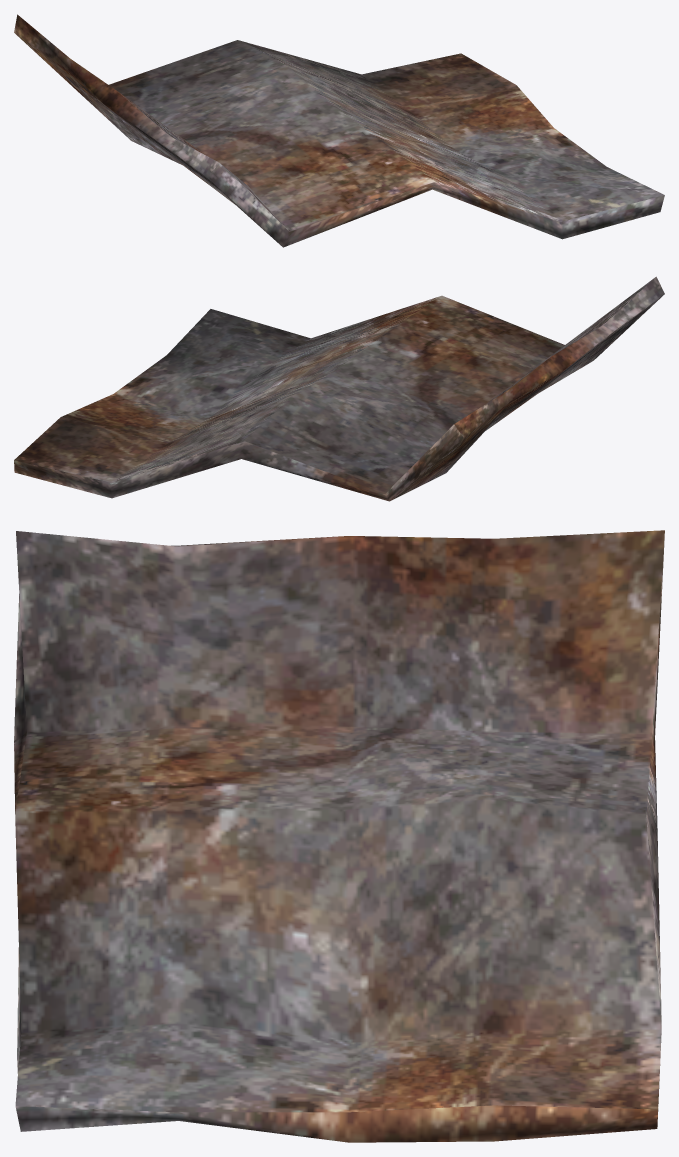
File: sheet_metal02.dae
3 renders of one model, top to bottom at view 1: azimuth 30°, elevation 25°; view 2: azimuth 150°, elevation 25°; view 3: azimuth 270°, elevation 25°, orthographic. The views are drawn at different scales.
Parts seen in each view (by area): view 1: pCube1; view 2: pCube1; view 3: pCube1.
Part boxes in pixels (box(x1,y1,x2,y2)): pCube1: box(14, 14, 664, 247); pCube1: box(14, 276, 664, 501); pCube1: box(14, 530, 664, 1142).
Size of the model in its own units: 0.5022 by 0.1735 by 0.3838.
